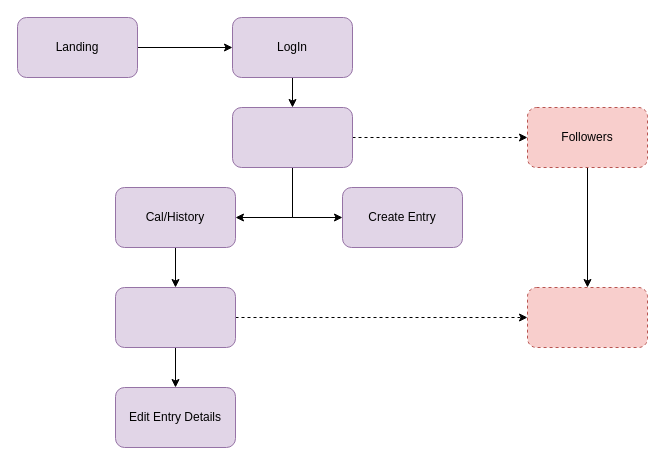
The diagram is 665 pixels wide and 465 high, and some of its shapes have lost their labels. Each missing label, with the centre of its shape:
Comments: pixel 587 317
Entry Details: pixel 175 317
Hub: pixel 292 137
